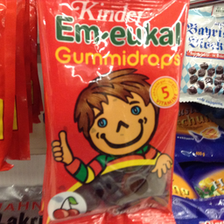candy: (38, 1, 183, 223)
